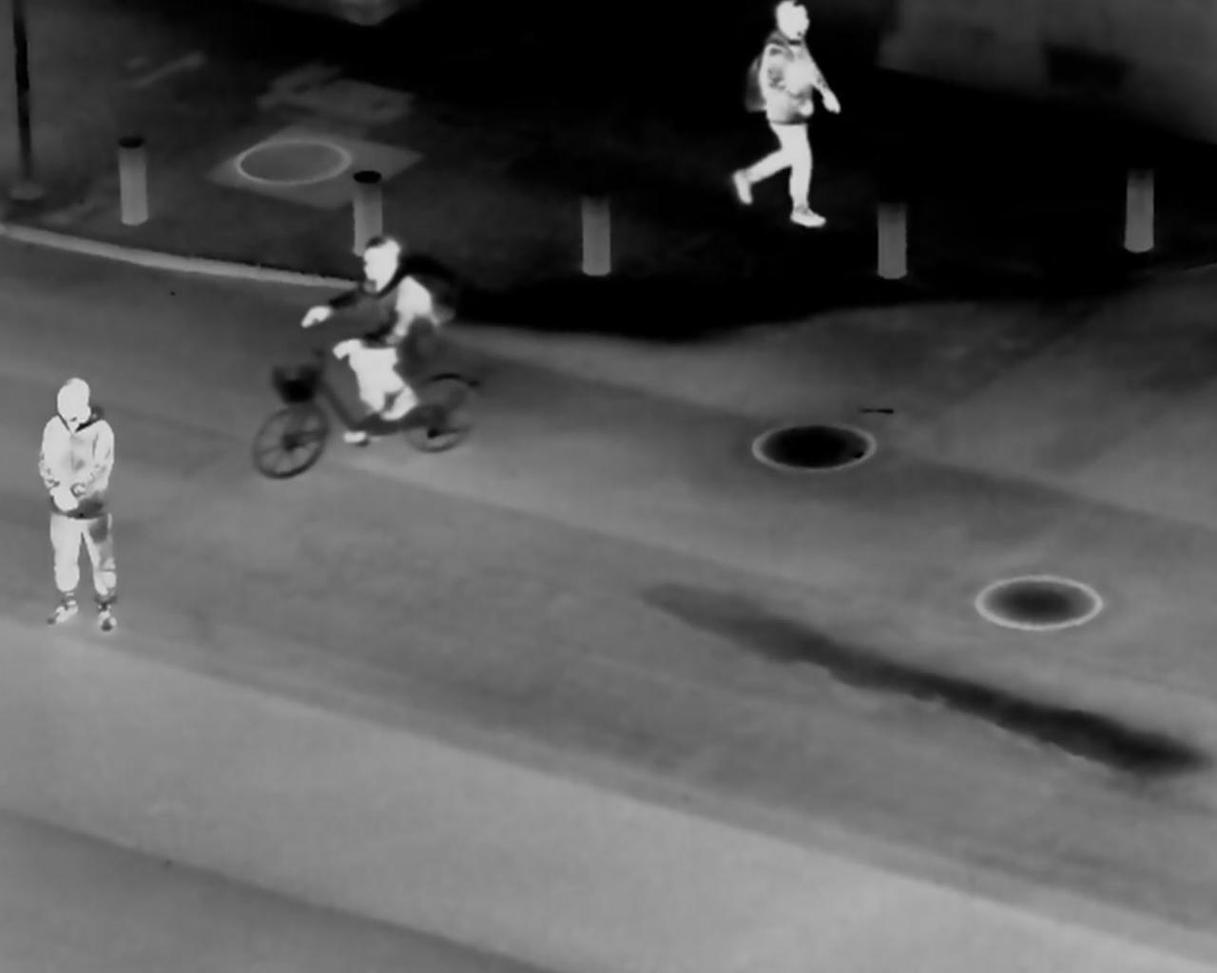person: (298, 224, 450, 450), (30, 372, 128, 636), (732, 6, 840, 228)
